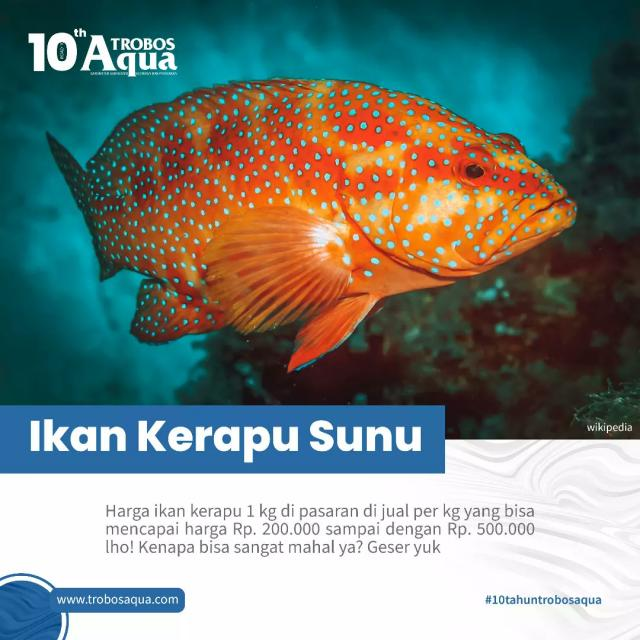Plectropomus-leopardus: (45, 73, 585, 358)
